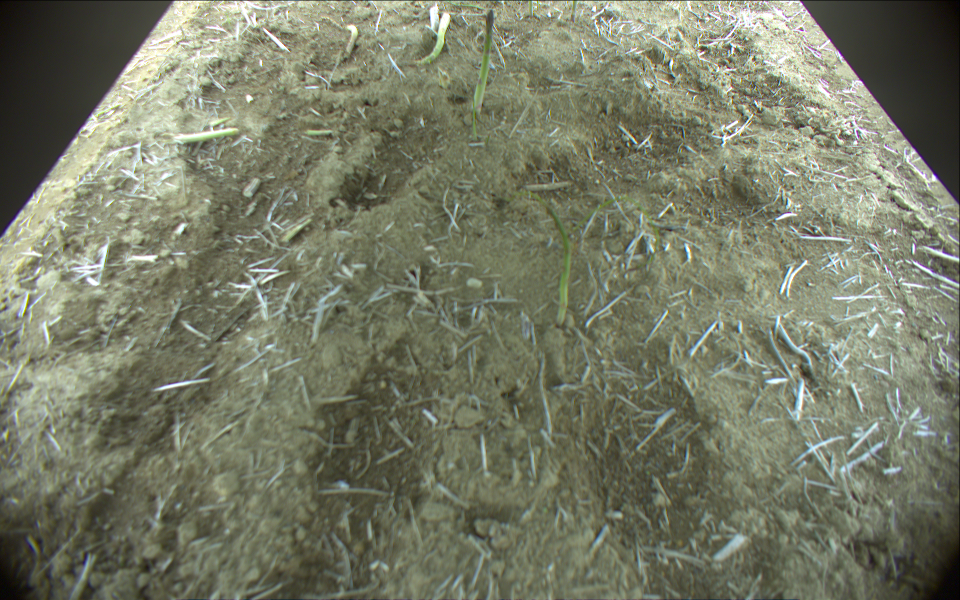aspa: (500, 191, 571, 330), (413, 11, 452, 67), (473, 11, 494, 115), (176, 126, 243, 143)
